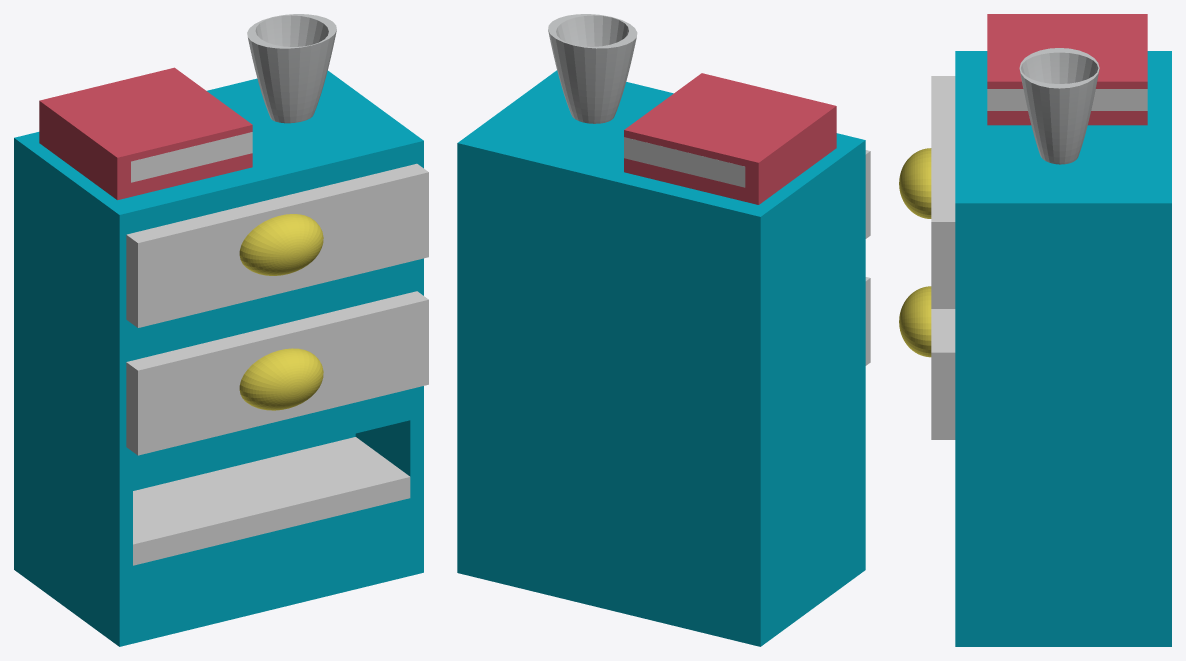
File: Glorious Turing (1).glb
3 renders of one model, left to right at view 1: azimuth 30°, elevation 25°; view 2: azimuth 150°, elevation 25°; view 3: azimuth 270°, elevation 25°, orthographic. The views are drawn at different scales.
Visible parts, largest first — view 1: Mesh_Mesh_head_geo.001_lambert2SG.001; view 2: Mesh_Mesh_head_geo.001_lambert2SG.001; view 3: Mesh_Mesh_head_geo.001_lambert2SG.001.
Part boxes in pixels (x1,y1,x2,y2): Mesh_Mesh_head_geo.001_lambert2SG.001: [14, 14, 428, 646]; Mesh_Mesh_head_geo.001_lambert2SG.001: [457, 14, 870, 646]; Mesh_Mesh_head_geo.001_lambert2SG.001: [899, 14, 1171, 646].
Bounding box in the file's own units: 45 × 74 × 34.
